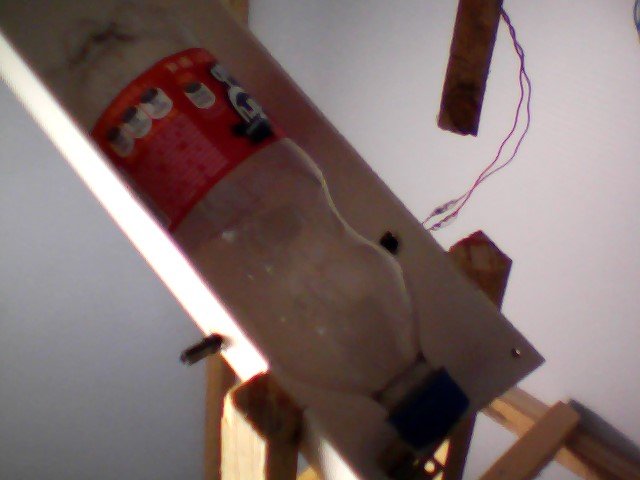plastico: (43, 2, 474, 453)
